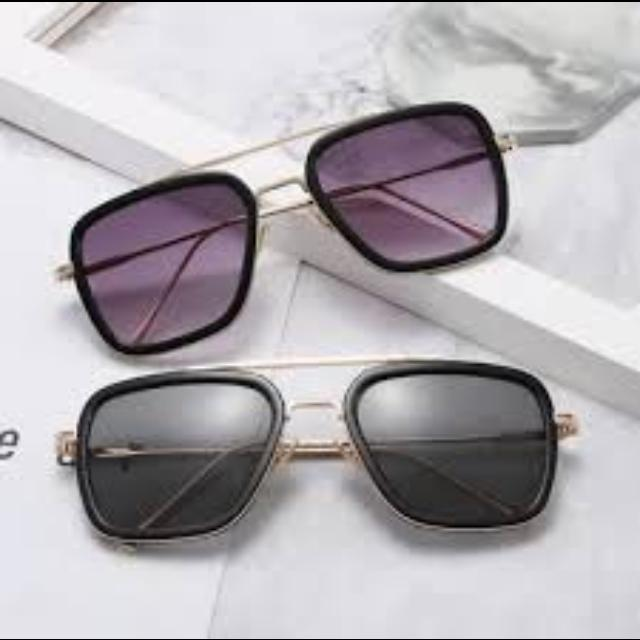sunglasses: (42, 100, 534, 350), (39, 355, 590, 545)
